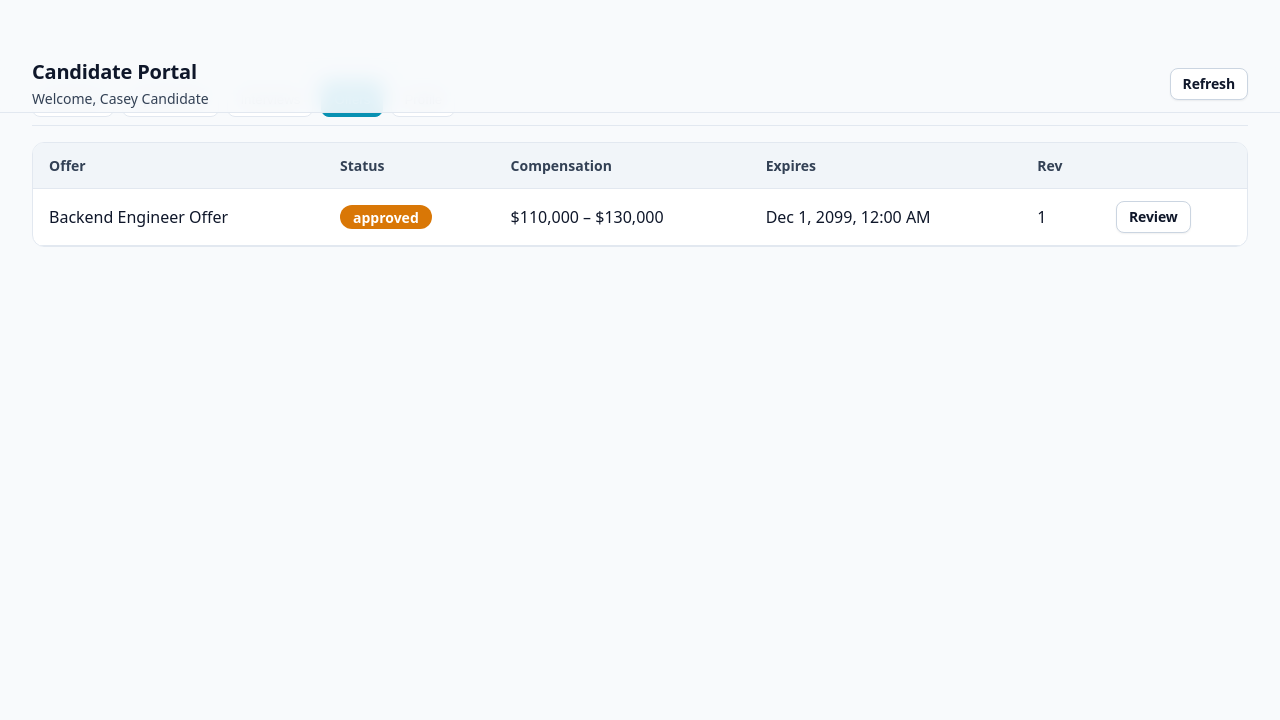
CandidatePortalPage › requires confirmation before accept and refreshes offer state
This screenshot has width=1280, height=720.
Step 1. Click the button "Review" → click(1153, 217), box x1=1116 y1=201 x2=1191 y2=233
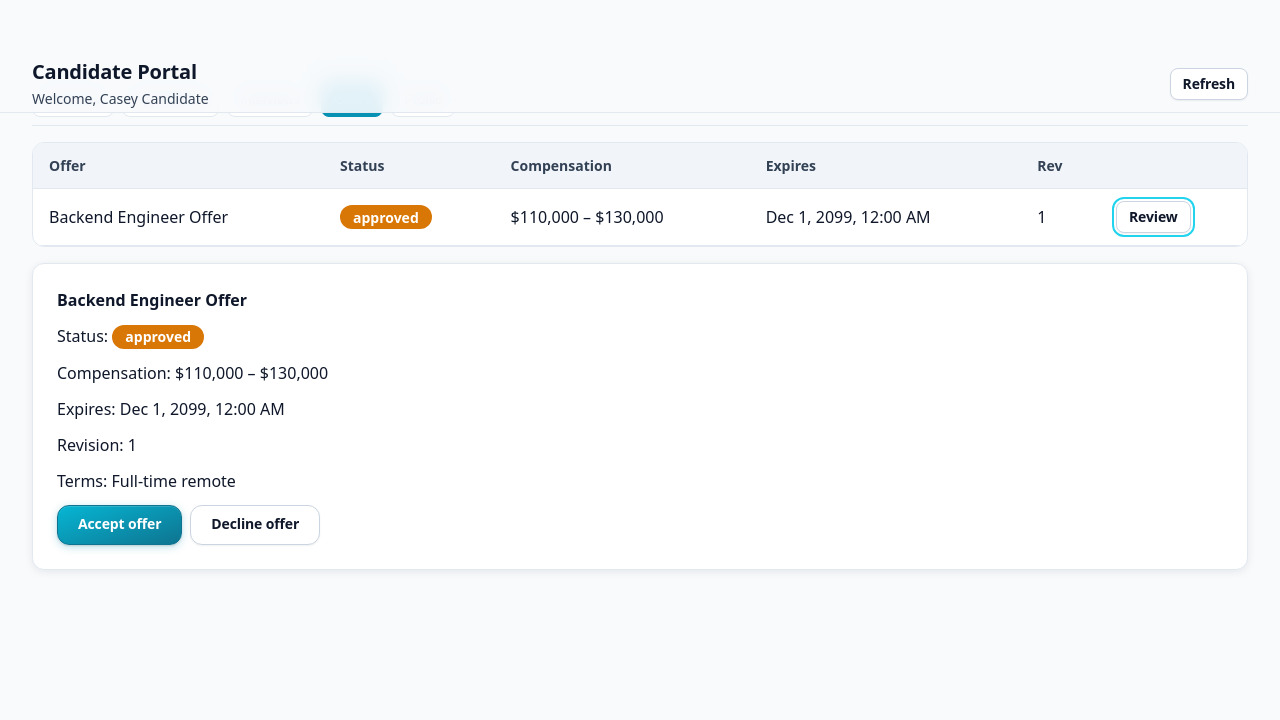
Step 2. Click the button "Accept offer" → click(120, 524), box x1=57 y1=504 x2=182 y2=544
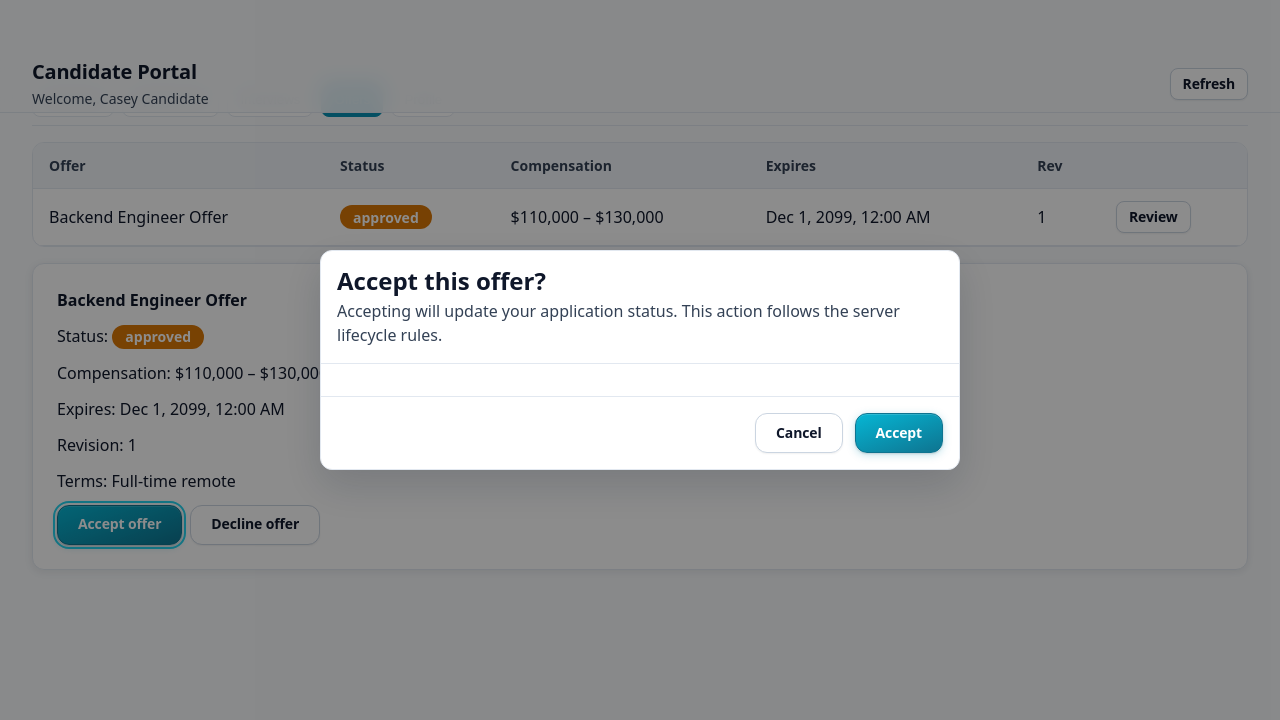
Check: the heading "Accept this offer?" is shown, box x1=337 y1=264 x2=546 y2=297
Step 3. Click the button "Accept" → click(899, 433), box x1=855 y1=413 x2=943 y2=453
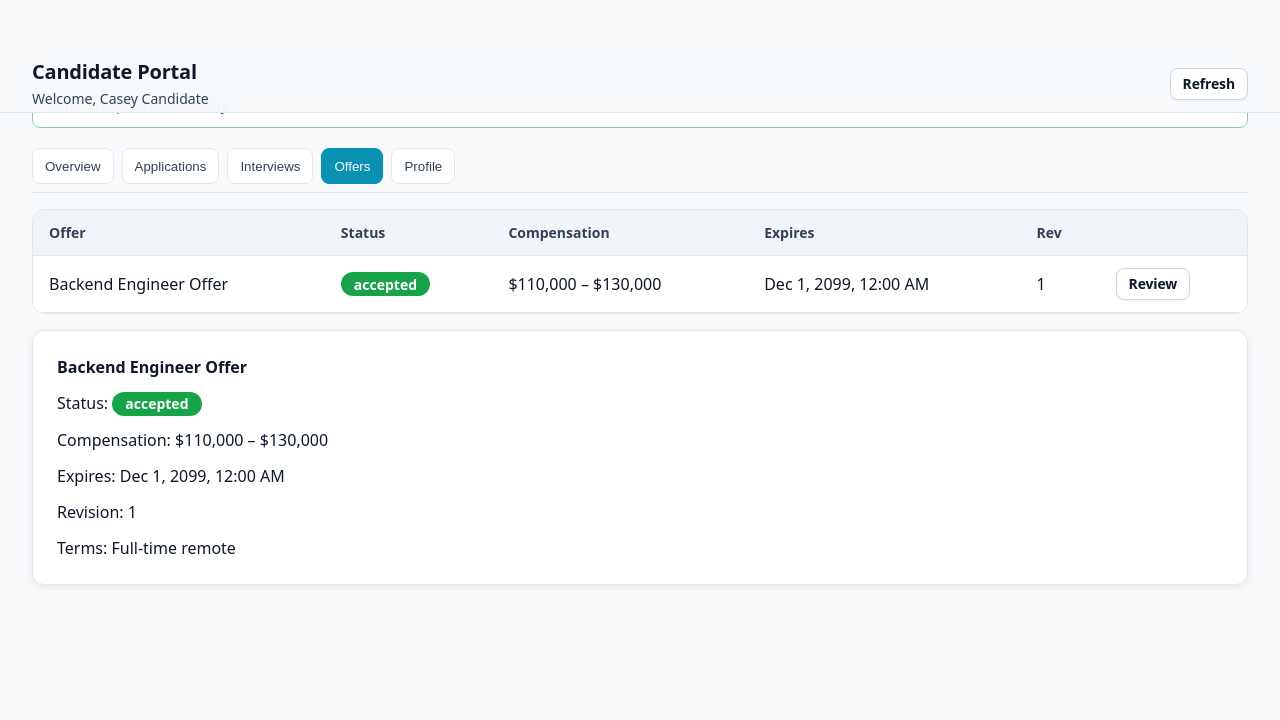
Check: the text "Offer accepted successfully." is shown, box x1=49 y1=95 x2=231 y2=114
Check: the button "Accept offer" is gone
